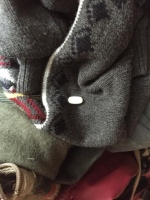Centik Buskopan: (67, 95, 84, 105)
